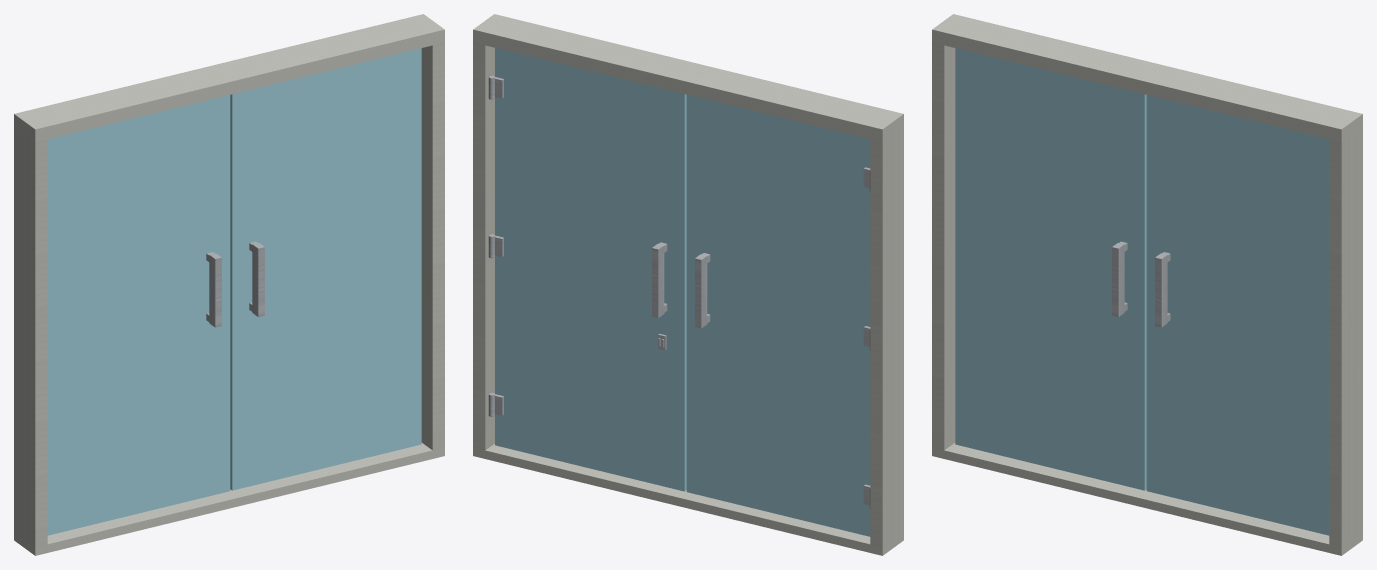
File: door-glass-2.glb
The picture shows the model from 3 angles, left to right: view 1: azimuth 30°, elevation 25°; view 2: azimuth 150°, elevation 25°; view 3: azimuth 330°, elevation 25°; orthographic projection.
Visible parts, largest first — view 1: passenger-swing-door (×2), DoorGlass2; view 2: passenger-swing-door (×2), DoorGlass2; view 3: passenger-swing-door (×2), DoorGlass2.
Part boxes in pixels (bbox=[...]): passenger-swing-door (×2): bbox=[47, 48, 421, 535]; DoorGlass2: bbox=[14, 14, 444, 555]; passenger-swing-door (×2): bbox=[488, 48, 870, 536]; DoorGlass2: bbox=[473, 14, 903, 555]; passenger-swing-door (×2): bbox=[955, 48, 1329, 535]; DoorGlass2: bbox=[932, 14, 1362, 555].
Bounding box in the file's own units: 2 × 1.99 × 0.19.
Materials: 3 (2 with a texture image).
